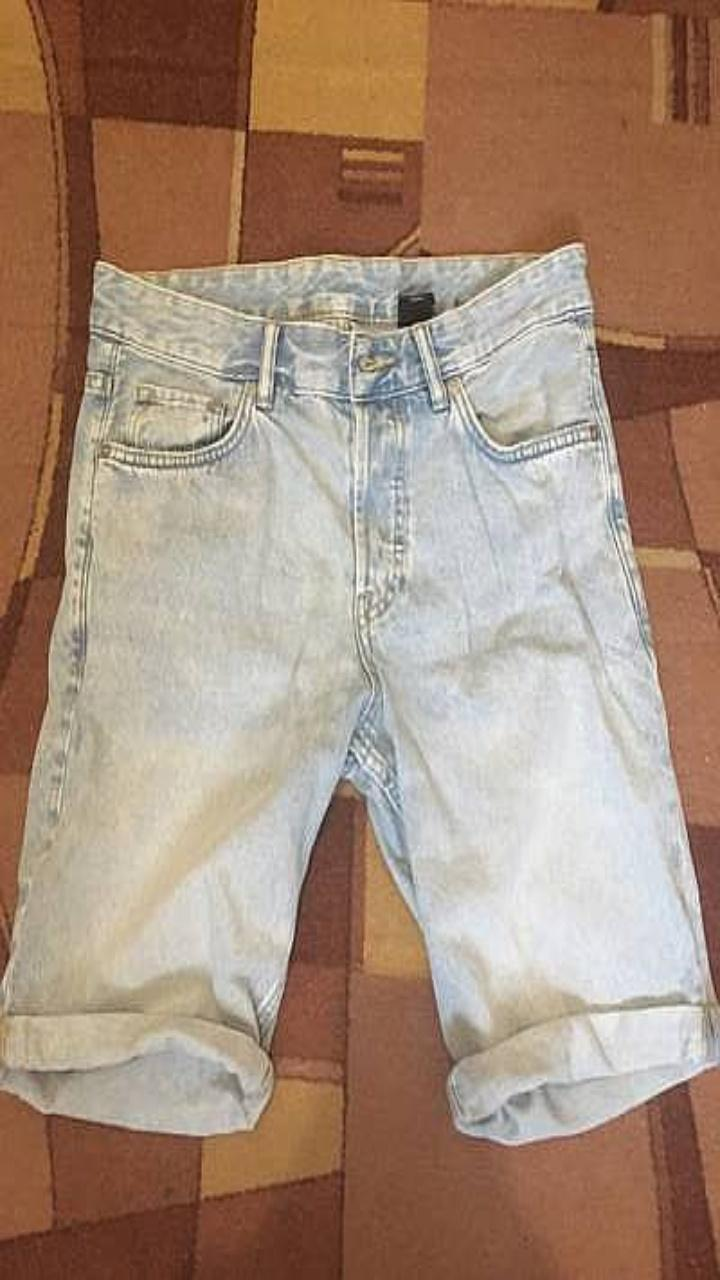Shorts: (0, 241, 719, 1143)
